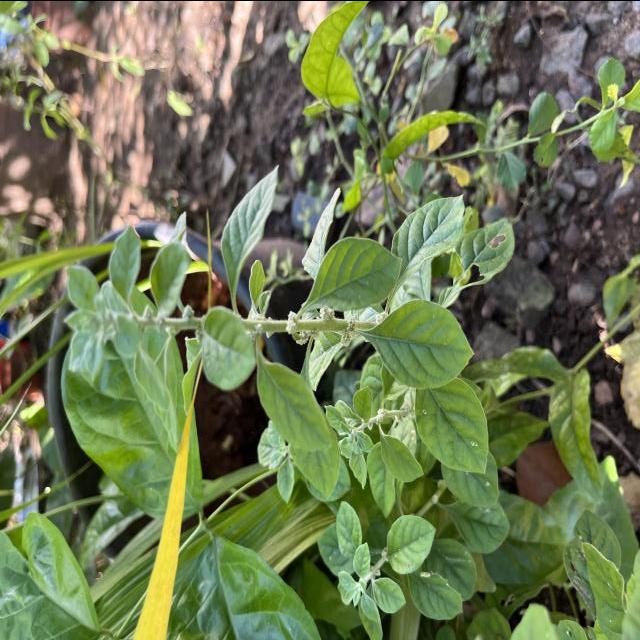Aerva lanata: (364, 296, 476, 390), (414, 376, 490, 476), (390, 190, 466, 280), (385, 512, 438, 576)
